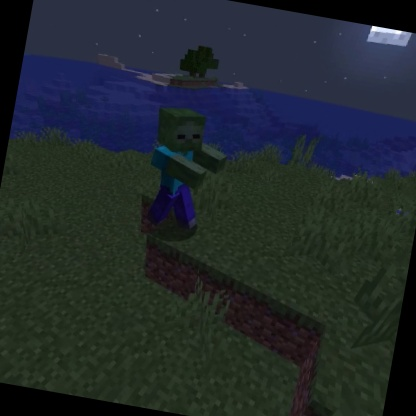zombie: (134, 100, 237, 240)
